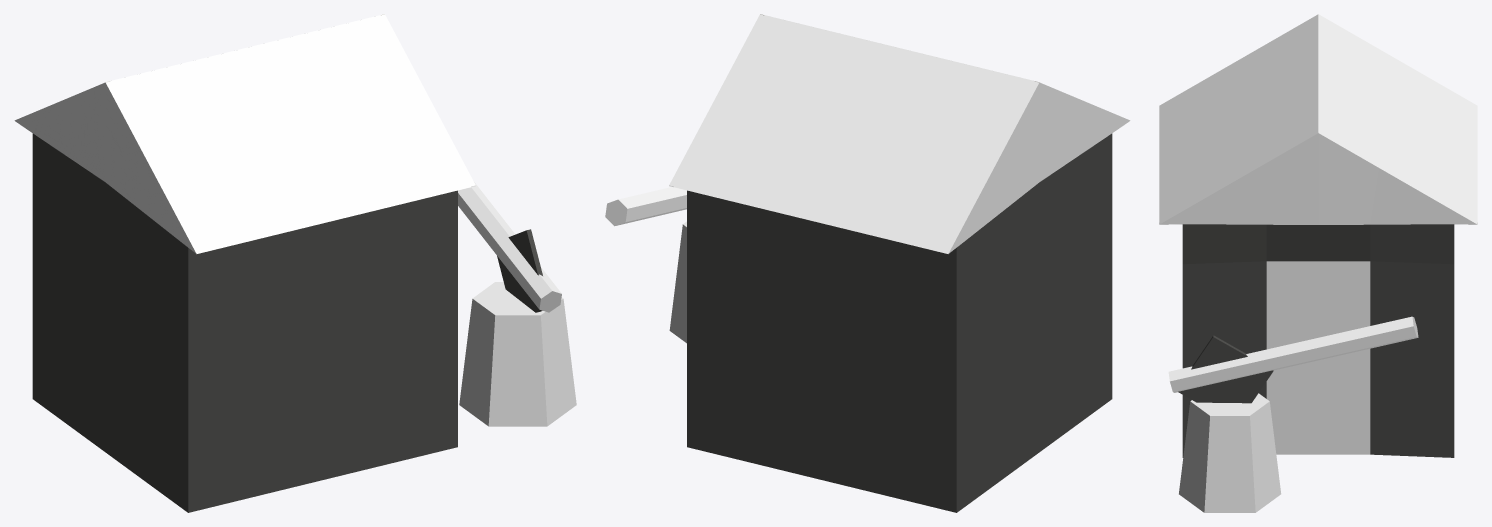
File: Lumberhut.fbx
3 renders of one model, left to right at view 1: azimuth 30°, elevation 25°; view 2: azimuth 150°, elevation 25°; view 3: azimuth 270°, elevation 25°, orthographic. The views are drawn at different scales.
Visible parts, largest first — view 1: Cylinder.001; view 2: Cylinder.001; view 3: Cylinder.001.
Part boxes in pixels (x1,y1,x2,y2): Cylinder.001: (14, 14, 576, 512); Cylinder.001: (605, 14, 1130, 512); Cylinder.001: (1159, 14, 1477, 512).
Bounding box in the file's own units: 301 × 266 × 234.
